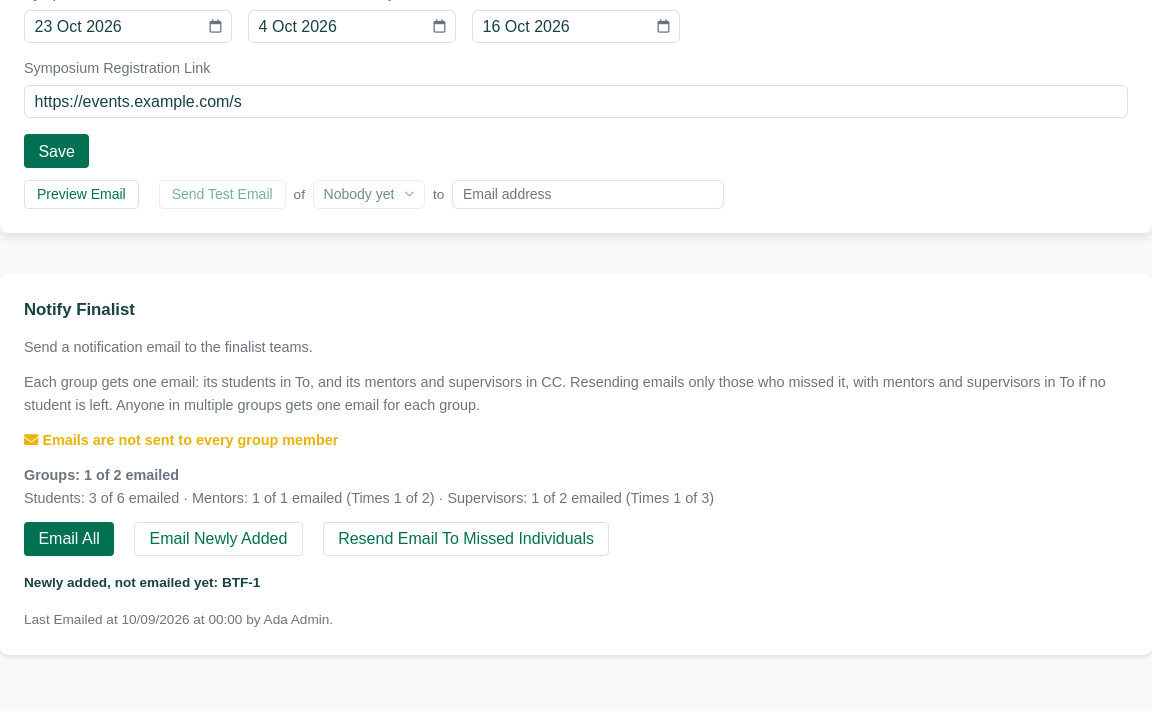
Test: sending › sending to all confirms first, then reports how many went out
(page scrolled)
Click the button "Email All". click: (69, 539)
box: [24,522,114,556]
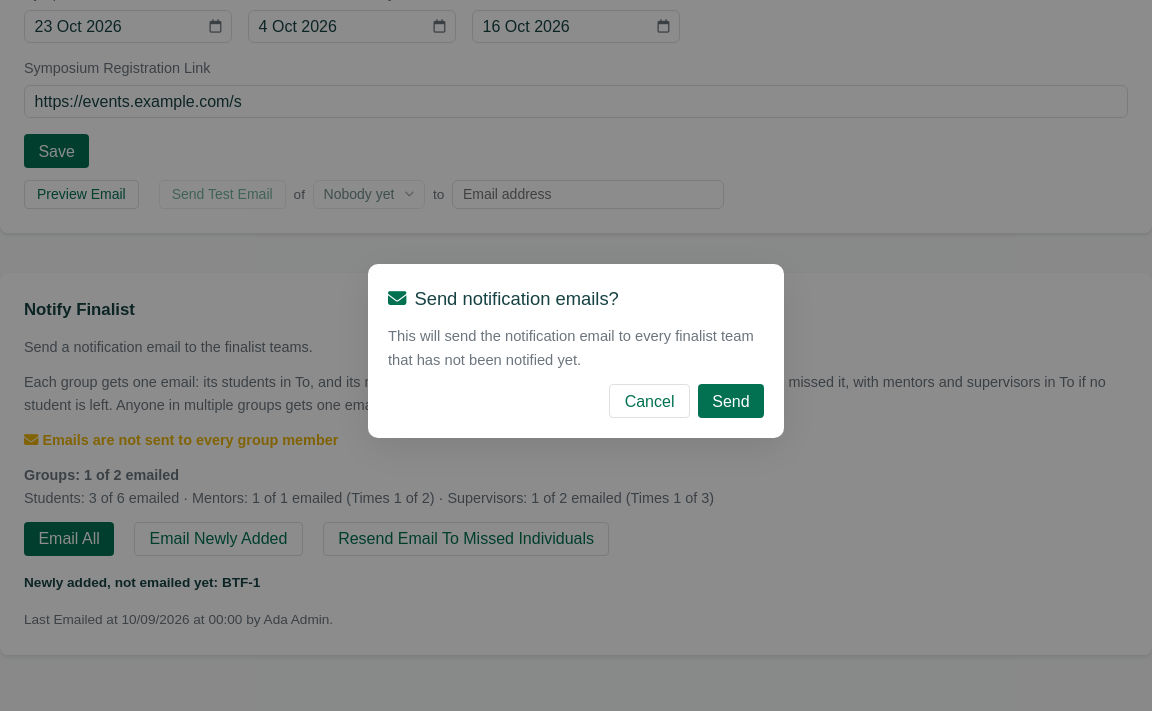
Expected: the dialog shows "every finalist team that has not been notified yet", [388,328,754,368]
Click the button "Send". click: (731, 401)
box: [698,384,764,418]
(page scrolled)
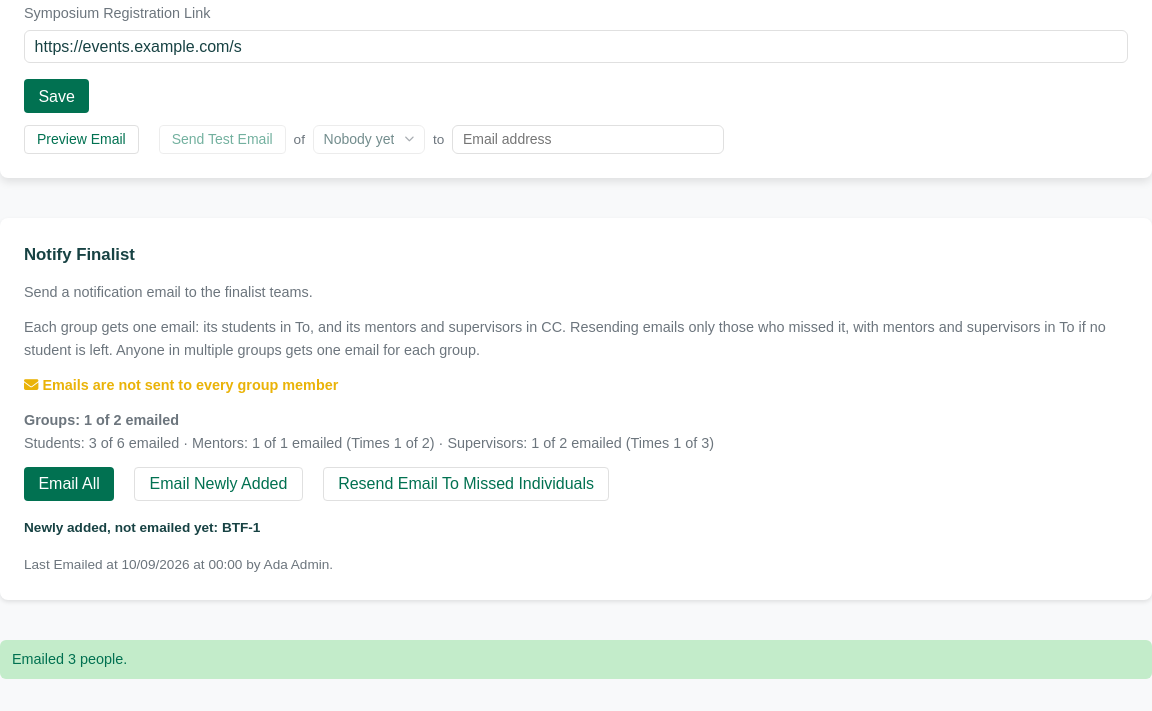
Expected: the text with class "notify-finalists__banner--ok" reads "Emailed 3 people.", [12,651,127,667]
